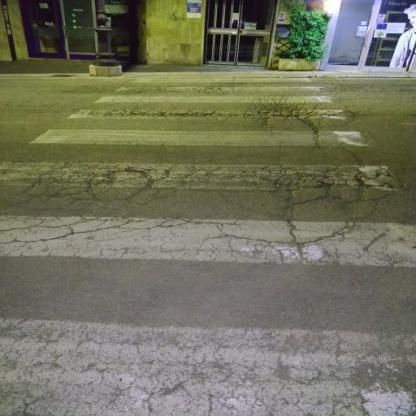crosswalk: (22, 106, 384, 154)
